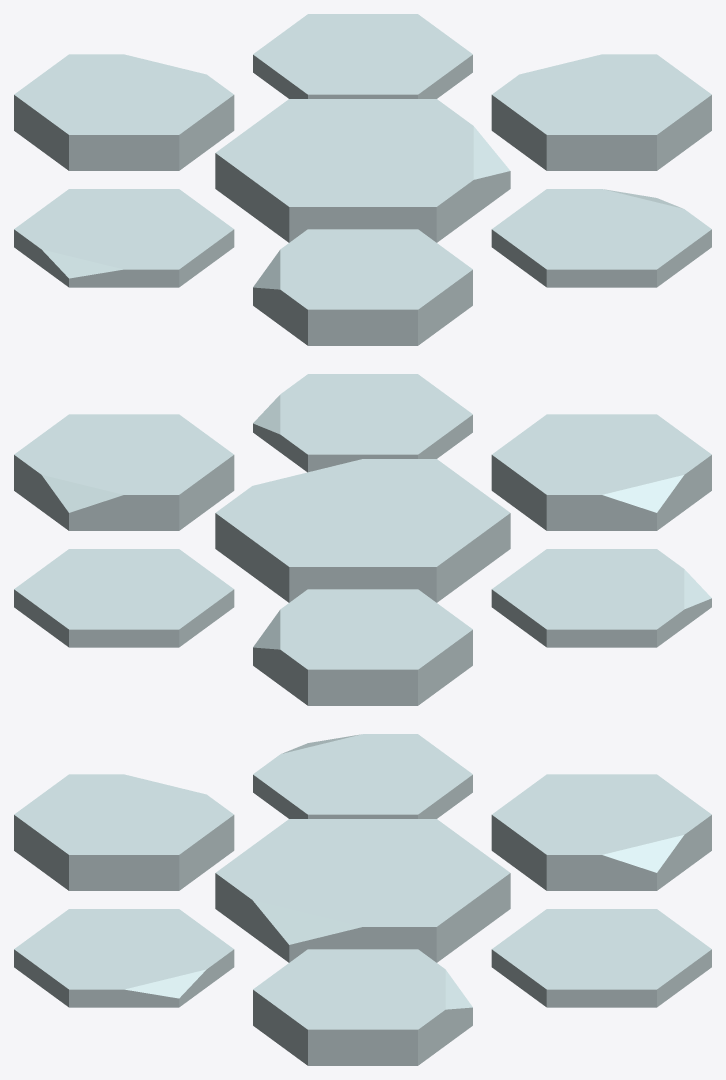
File: path_stoneCircle.gltf
3 views of the same model, one above another, from view 1: azimuth 30°, elevation 25°; view 2: azimuth 150°, elevation 25°; view 3: azimuth 270°, elevation 25° (orthographic).
Parts seen in each view (by area): view 1: path_stoneCircle; view 2: path_stoneCircle; view 3: path_stoneCircle.
Boxes of the visible parts, left/top/right/bottom form: path_stoneCircle: left=14, top=14, right=711, bottom=345; path_stoneCircle: left=14, top=374, right=711, bottom=705; path_stoneCircle: left=14, top=734, right=711, bottom=1065.
Size of the model in its own units: 0.9324 by 0.05 by 0.8766.
